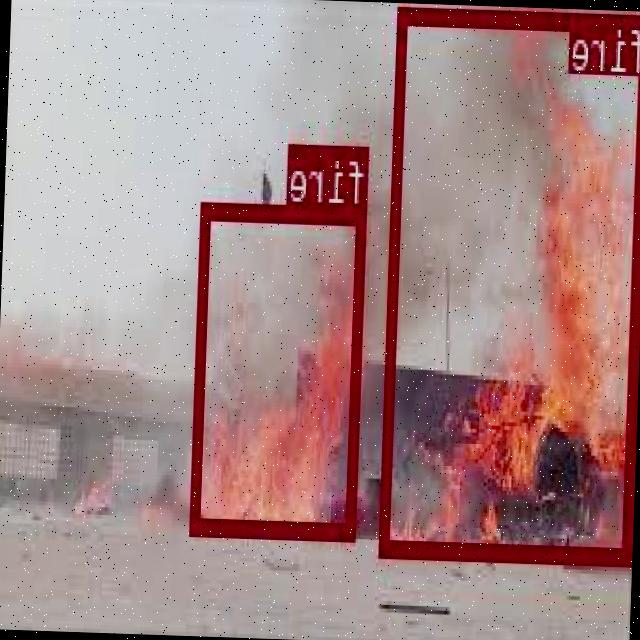fire: (381, 3, 640, 563), (191, 201, 367, 538)
